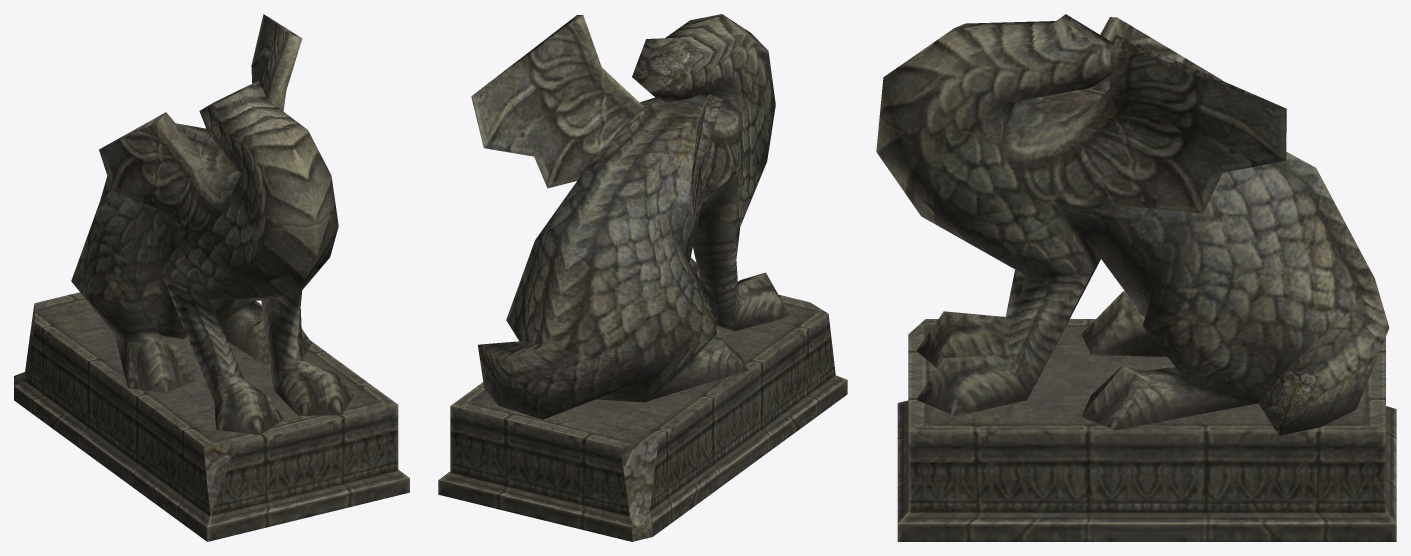
The model's file is Statue07_b.FBX.
The picture shows the model from 3 angles, left to right: view 1: azimuth 30°, elevation 25°; view 2: azimuth 150°, elevation 25°; view 3: azimuth 270°, elevation 25°; orthographic projection. The views are drawn at different scales.
Parts seen in each view (by area): view 1: Statue07_b; view 2: Statue07_b; view 3: Statue07_b.
Boxes of the visible parts, left/top/right/bottom form: Statue07_b: left=14, top=14, right=409, bottom=541; Statue07_b: left=438, top=14, right=847, bottom=541; Statue07_b: left=876, top=14, right=1396, bottom=541.
Bounding box in the file's own units: 90.96 × 162 × 156.
